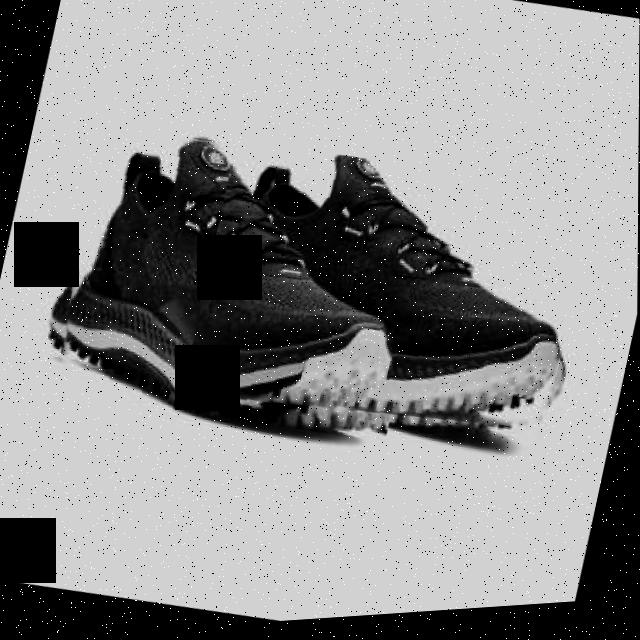shoe: (181, 123, 606, 474), (37, 104, 444, 465)
